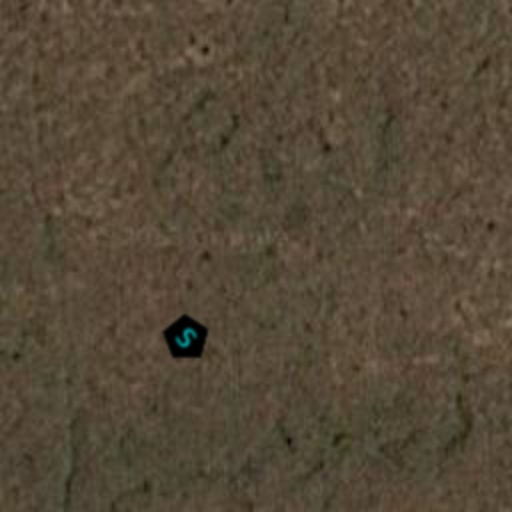pentagon: (150, 302, 222, 374)
